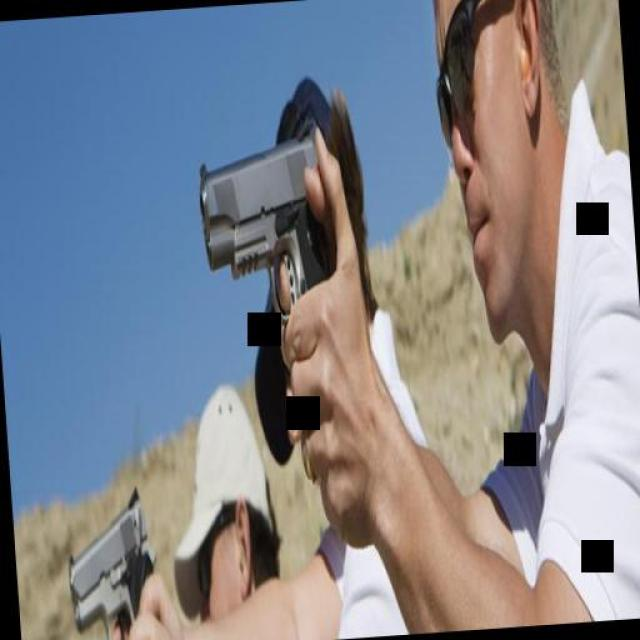gun: (194, 136, 341, 392), (61, 476, 160, 640)
